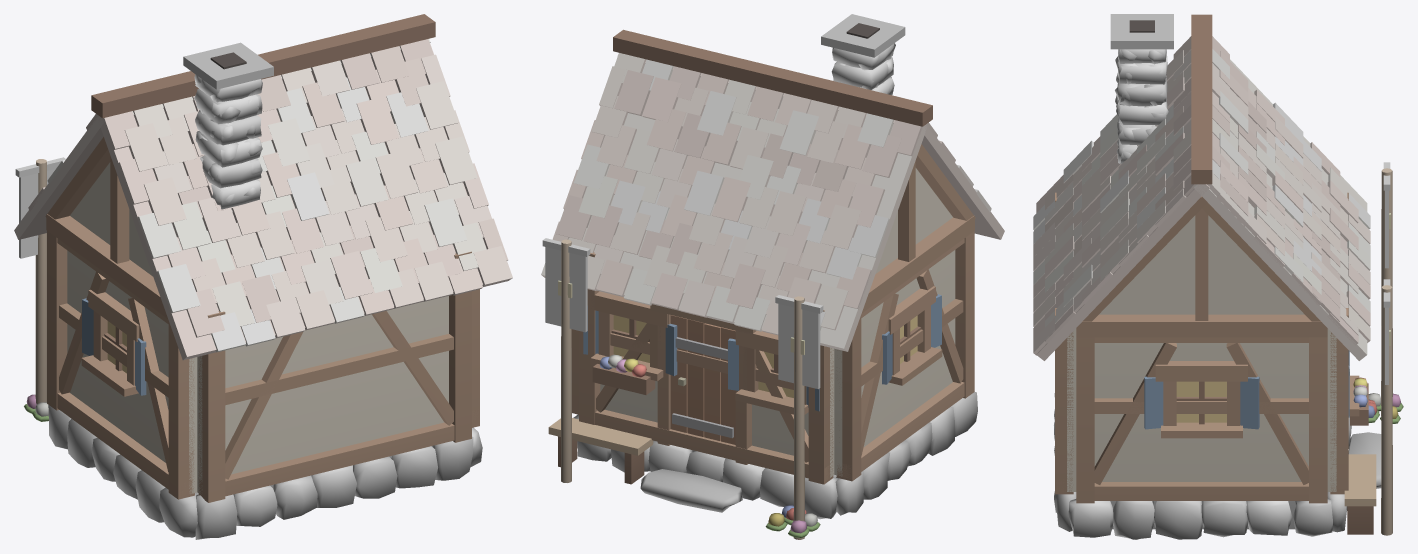
Rendered from hw_elders_lodge.glb.
The picture shows the model from 3 angles, left to right: view 1: azimuth 30°, elevation 25°; view 2: azimuth 150°, elevation 25°; view 3: azimuth 270°, elevation 25°; orthographic projection. The views are drawn at different scales.
Parts seen in each view (by area): view 1: Building; view 2: Building; view 3: Building.
Part boxes in pixels (box(x1,y1,x2,y2)): Building: box(14, 14, 512, 539); Building: box(541, 14, 1004, 539); Building: box(1033, 14, 1403, 539).
Bounding box in the file's own units: 2.78 × 3.49 × 2.8.
